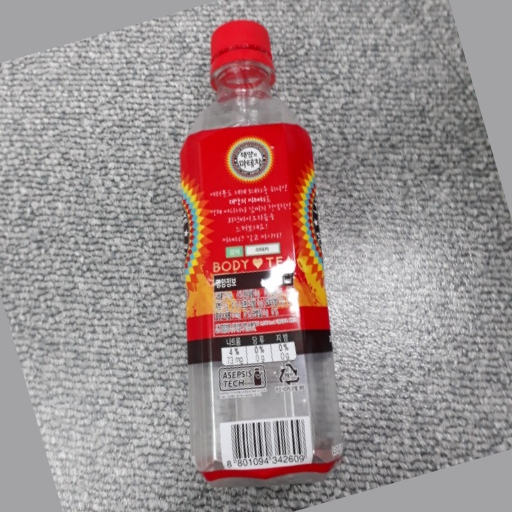Plastic_0: (178, 20, 345, 479)
